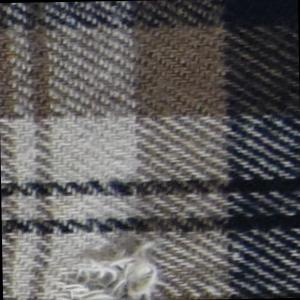Damage: (42, 231, 174, 300)
